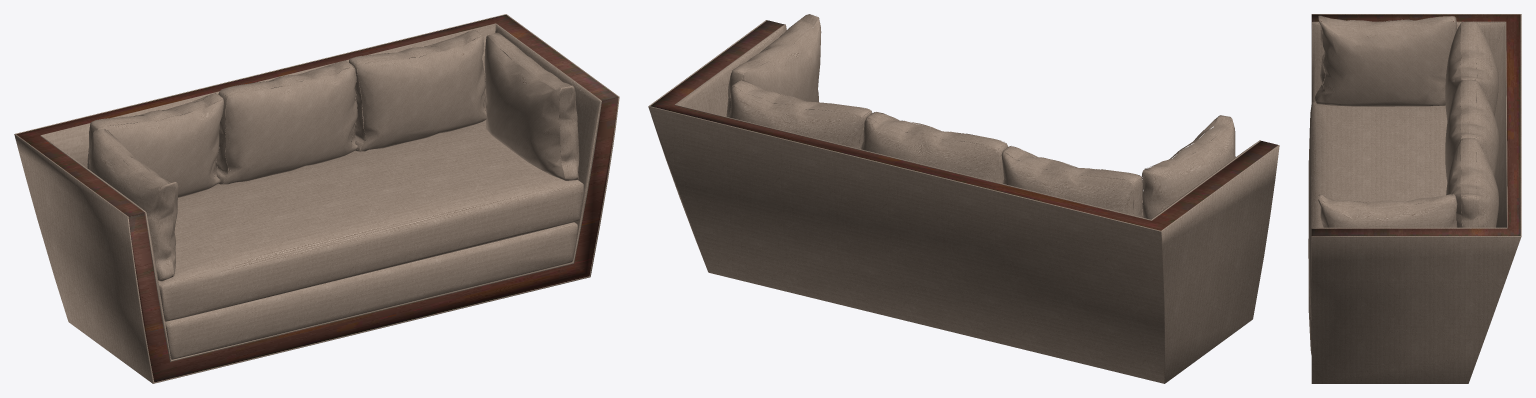
Rendered from burtonjames_546sofa.gltf.
The picture shows the model from 3 angles, left to right: view 1: azimuth 30°, elevation 25°; view 2: azimuth 150°, elevation 25°; view 3: azimuth 270°, elevation 25°; orthographic projection. The views are drawn at different scales.
Visible parts, largest first — view 1: burtonjames_546sofa; view 2: burtonjames_546sofa; view 3: burtonjames_546sofa.
Boxes of the visible parts, x1,y1,x2,y2 form: burtonjames_546sofa: [14, 14, 619, 383]; burtonjames_546sofa: [648, 14, 1279, 383]; burtonjames_546sofa: [1308, 14, 1521, 383].
Bounding box in the file's own units: 2434 × 913 × 985.
3 materials, 3 textured.
